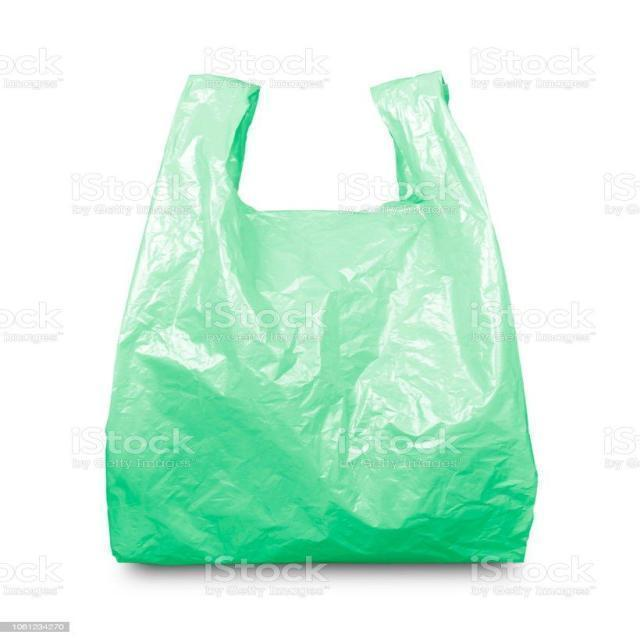Plastic_Bag: (115, 64, 528, 564)
